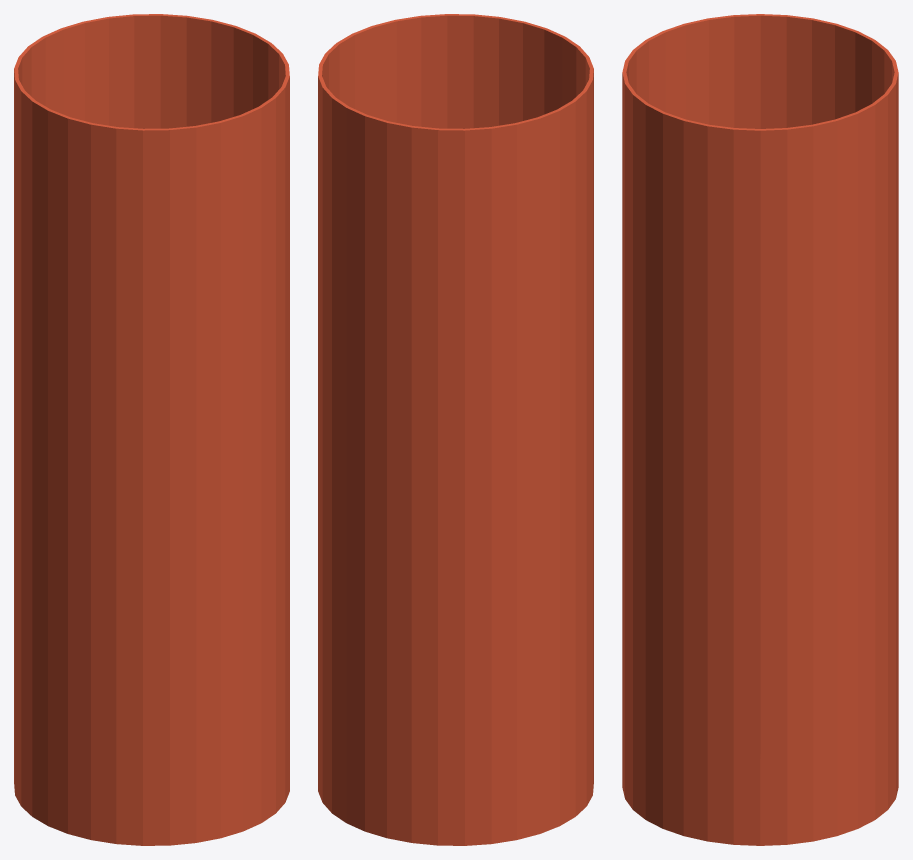
File: papel_1.fbx
3 renders of one model, left to right at view 1: azimuth 30°, elevation 25°; view 2: azimuth 150°, elevation 25°; view 3: azimuth 270°, elevation 25°, orthographic.
Parts seen in each view (by area): view 1: Cilindro; view 2: Cilindro; view 3: Cilindro.
Part boxes in pixels (x1,y1,x2,y2): Cilindro: (14,14,289,845); Cilindro: (318,14,593,845); Cilindro: (622,14,898,845).
Size of the model in its own units: 7 by 20 by 7.
